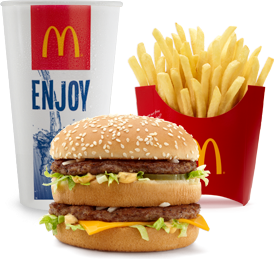mcdonalds: (40, 22, 84, 60)
